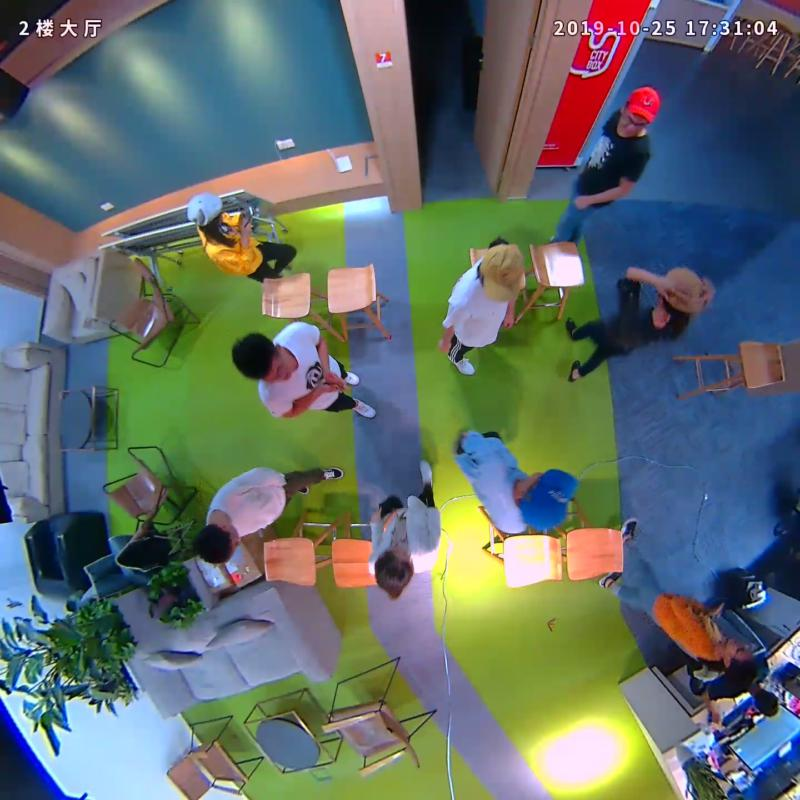head: (517, 466, 578, 533), (232, 332, 292, 384), (477, 242, 524, 304), (657, 265, 705, 316), (618, 85, 661, 136), (375, 544, 415, 595), (196, 521, 241, 566), (722, 636, 756, 683), (184, 191, 225, 228)
